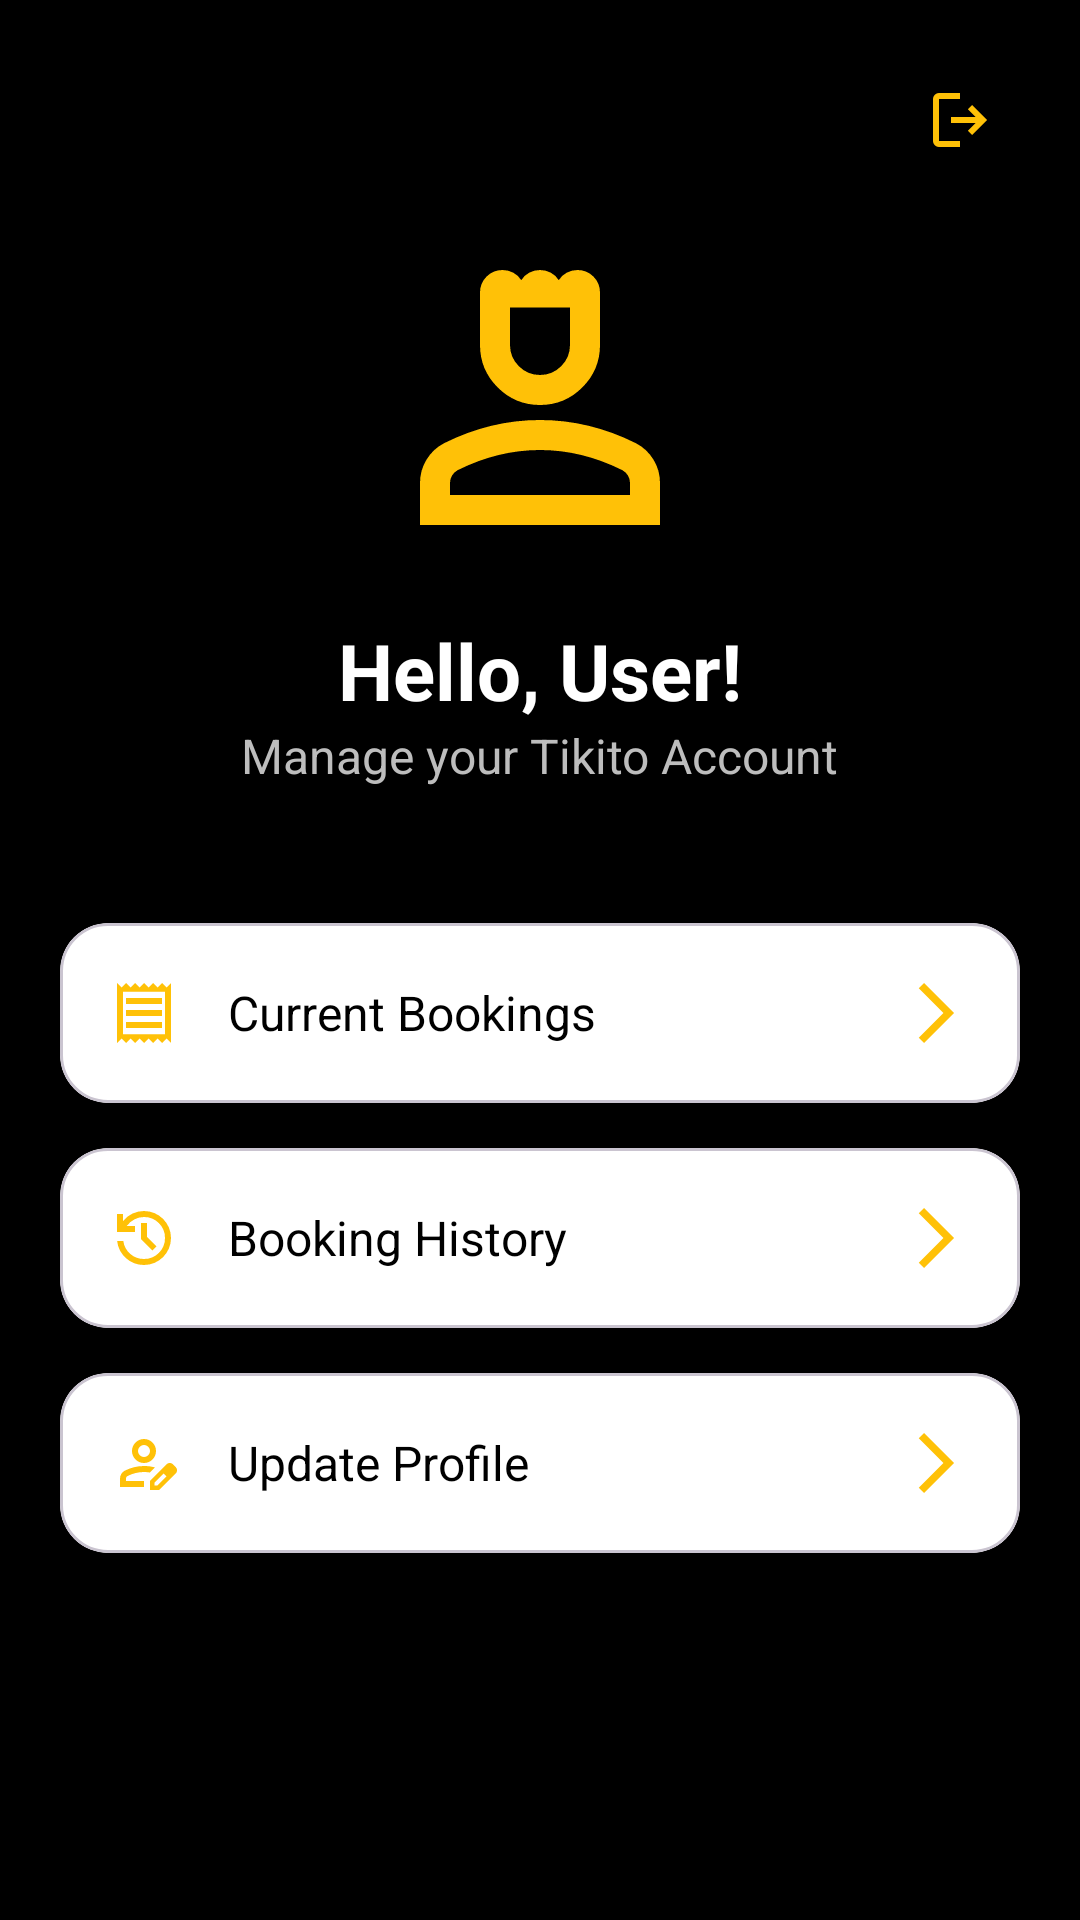

Where icons sit on this 1080px×1920px app screen, as (x1, y1, x2, y2):
arrow: (919, 983, 954, 1043), (919, 1208, 954, 1268), (919, 1433, 954, 1493)
person: (420, 270, 660, 525)
person edit: (120, 1439, 177, 1490)
ticket: (117, 983, 171, 1043)
